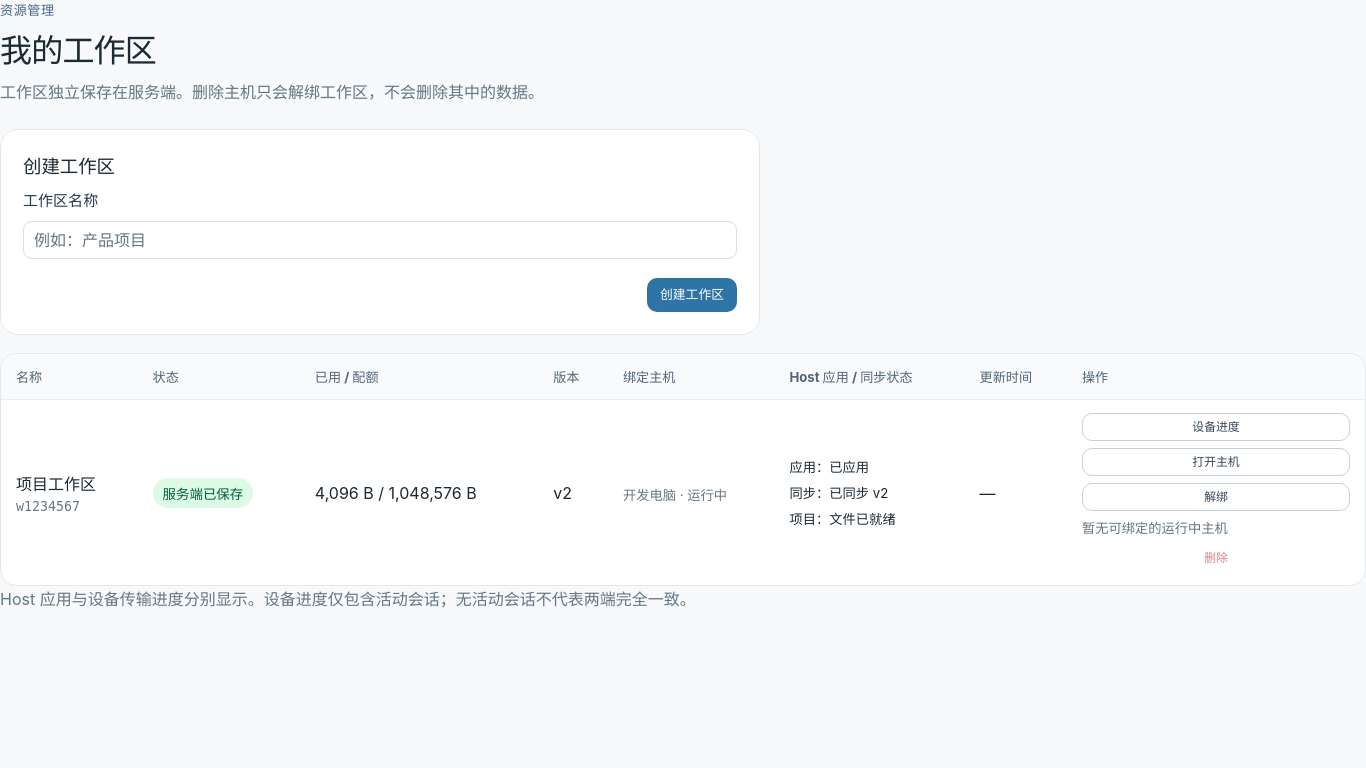
Test case: Workspaces › requires explicit stopped-writers confirmation before unbinding and refreshes retained workspace state
Expected: the button with aria-label "删除工作区 项目工作区" is disabled, x1=1082 y1=544 x2=1350 y2=572
Click the button with aria-label "解绑工作区 项目工作区 与主机 开发电脑" at [1216, 497], box x1=1082 y1=483 x2=1350 y2=511
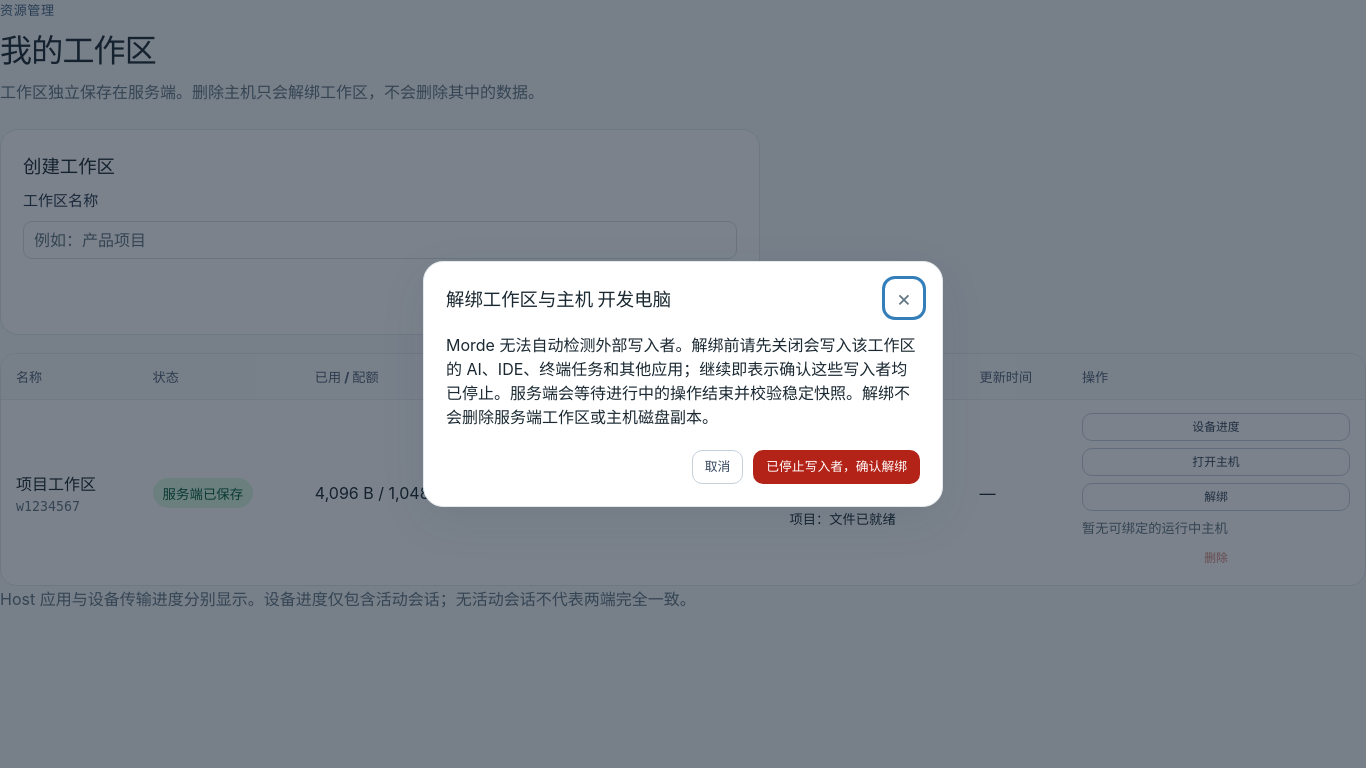
Result: the heading "解绑工作区与主机 开发电脑" is shown at x1=446 y1=285 x2=671 y2=311
Result: the text "解绑不会删除服务端工作区或主机磁盘副本" is shown at x1=446 y1=335 x2=915 y2=427
Click the button "已停止写入者，确认解绑" at [837, 467], box x1=753 y1=450 x2=920 y2=484
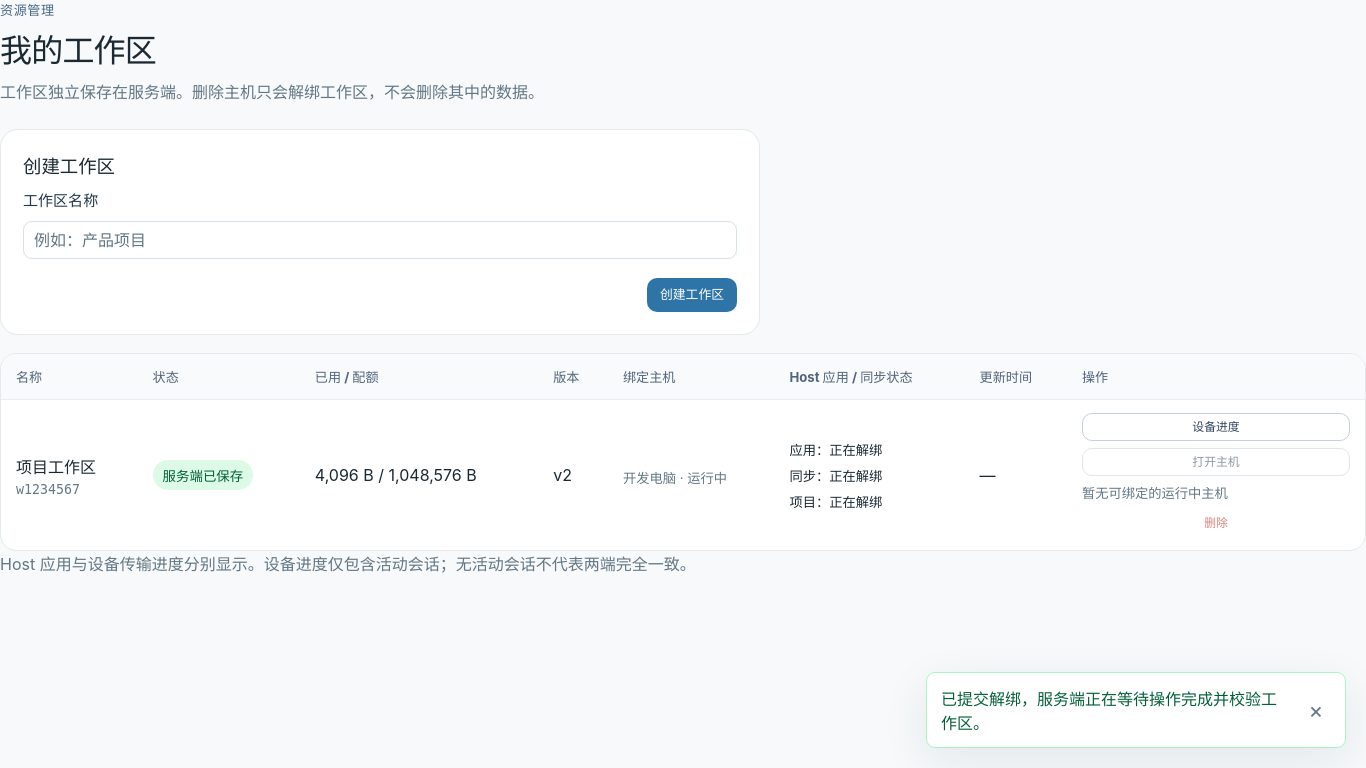
Expected: the button with aria-label "删除工作区 项目工作区" is disabled, x1=1082 y1=509 x2=1350 y2=537
Result: the text "应用：正在解绑" is shown at x1=790 y1=442 x2=882 y2=458
Result: the text "已提交解绑，服务端正在等待操作完成并校验工作区。" is shown at x1=941 y1=689 x2=1277 y2=733
